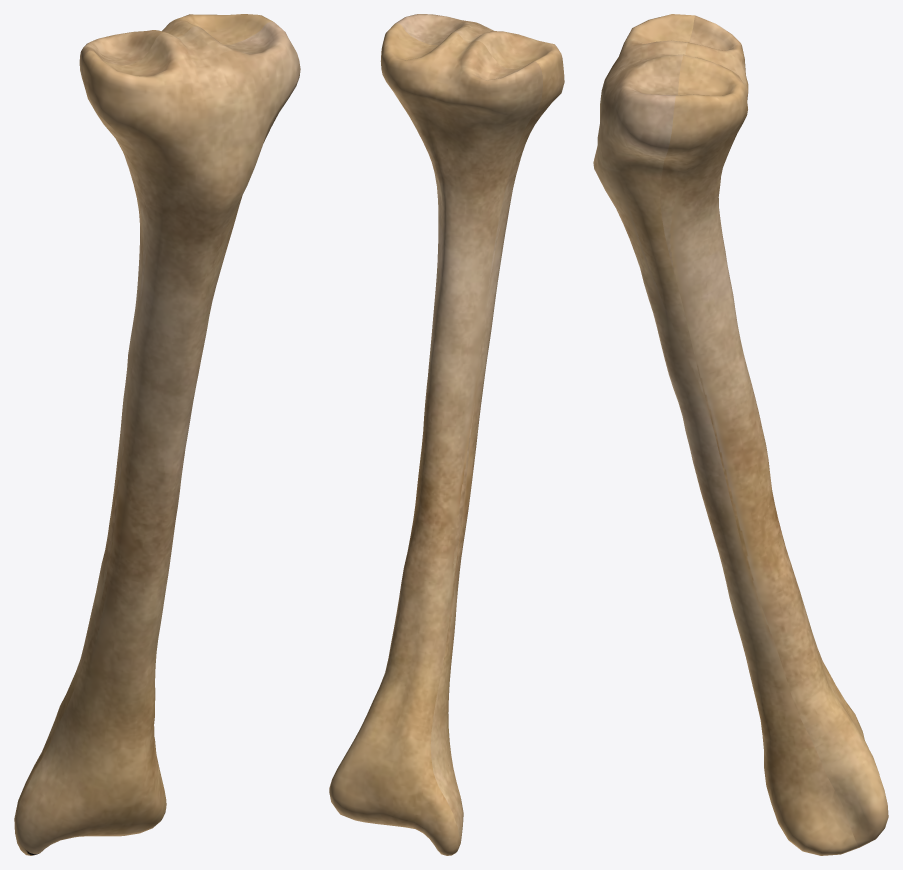
The model's file is large_bone_3.glb.
The picture shows the model from 3 angles, left to right: view 1: azimuth 30°, elevation 25°; view 2: azimuth 150°, elevation 25°; view 3: azimuth 270°, elevation 25°; orthographic projection. The views are drawn at different scales.
Parts seen in each view (by area): view 1: Hueso grande 4; view 2: Hueso grande 4; view 3: Hueso grande 4.
Part boxes in pixels (<box>): Hueso grande 4: <box>14,14,300,855</box>; Hueso grande 4: <box>329,14,564,855</box>; Hueso grande 4: <box>593,14,888,855</box>.
Size of the model in its own units: 0.3667 by 1.57 by 0.5232.
1 material, 1 textured.
